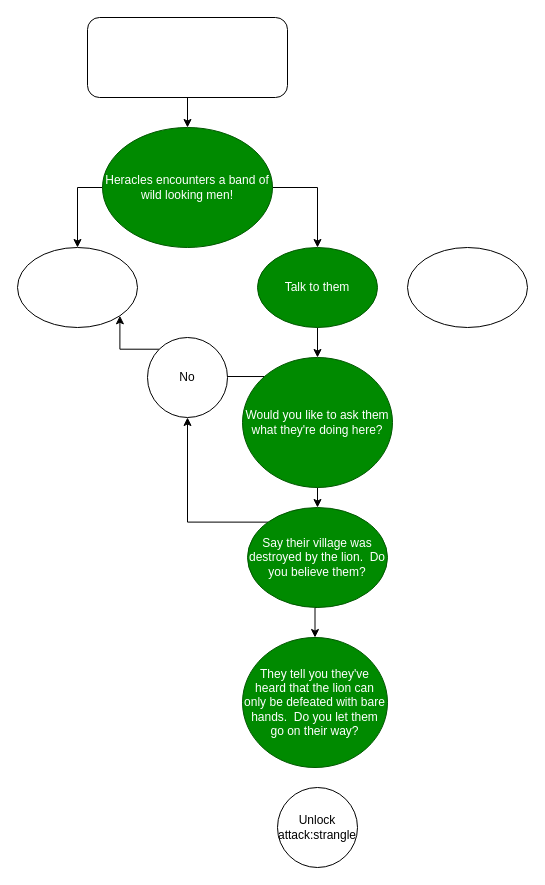
Image size: 545x885. Some labels were removed from this diagram. Here are the shapes that lost their labels. From the top down, the centre of each, then its label:
point 187,57: Chapter 1: The Nemean Lion
point 77,287: FIGHT!
point 467,287: Alert boxes as "comic book text bubbles"
